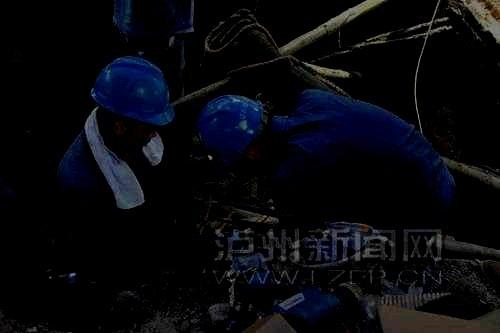helmet: (90, 56, 175, 158), (197, 95, 271, 177)
